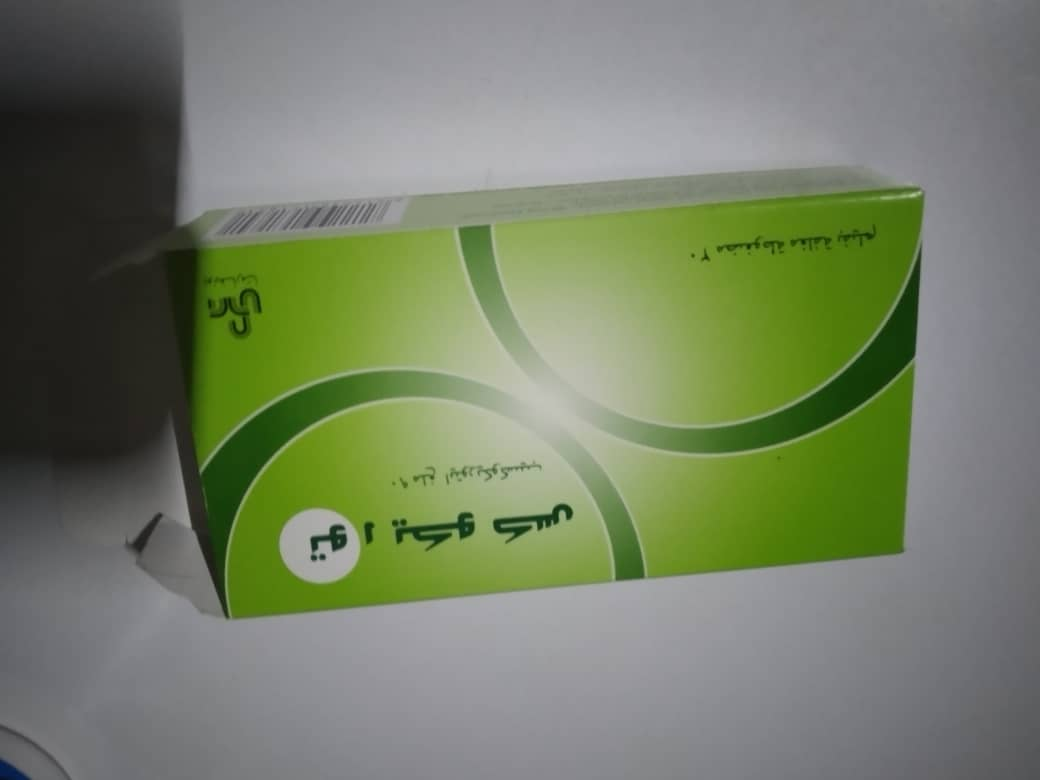Medicine: (86, 144, 926, 618)
